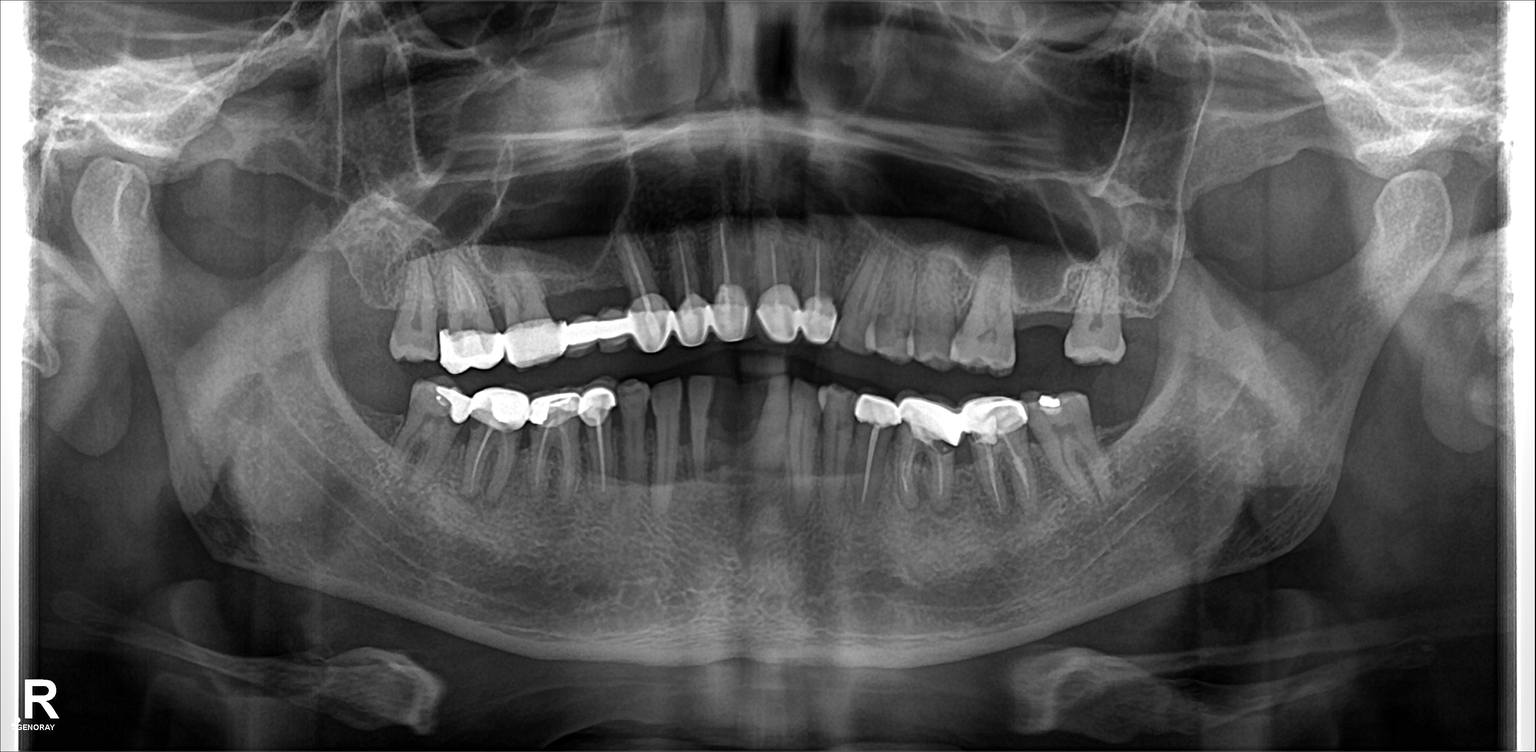Endodontically Treated Tooth: (963, 396, 1026, 511), (497, 248, 554, 368), (441, 251, 499, 365), (559, 255, 621, 358), (892, 404, 948, 505), (618, 244, 672, 341), (529, 396, 583, 493), (663, 244, 708, 346), (754, 223, 793, 340), (708, 225, 743, 347), (479, 391, 520, 495), (801, 225, 834, 346), (859, 391, 891, 509), (581, 395, 615, 502)
Missing Tooth: (1013, 262, 1068, 380), (337, 251, 405, 337), (348, 370, 401, 475), (1125, 259, 1164, 369), (1091, 391, 1146, 466)
